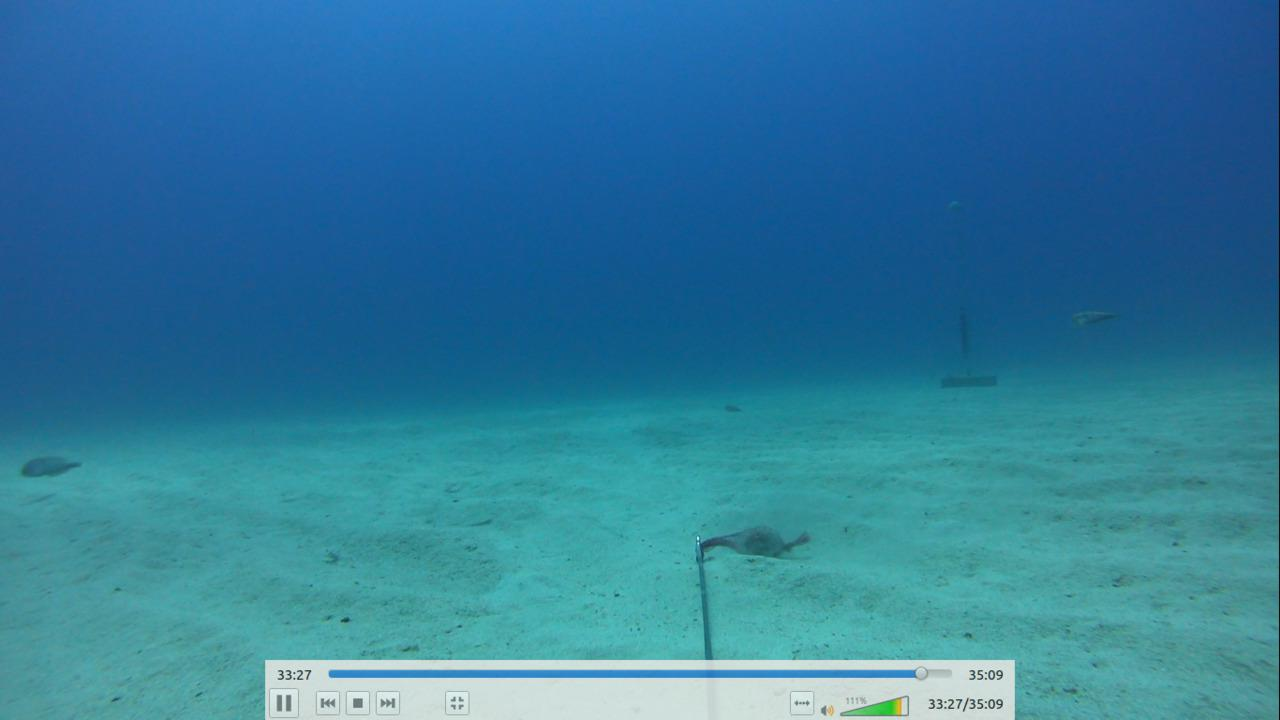raor: (12, 449, 86, 477), (1067, 301, 1117, 334), (716, 395, 746, 421)
